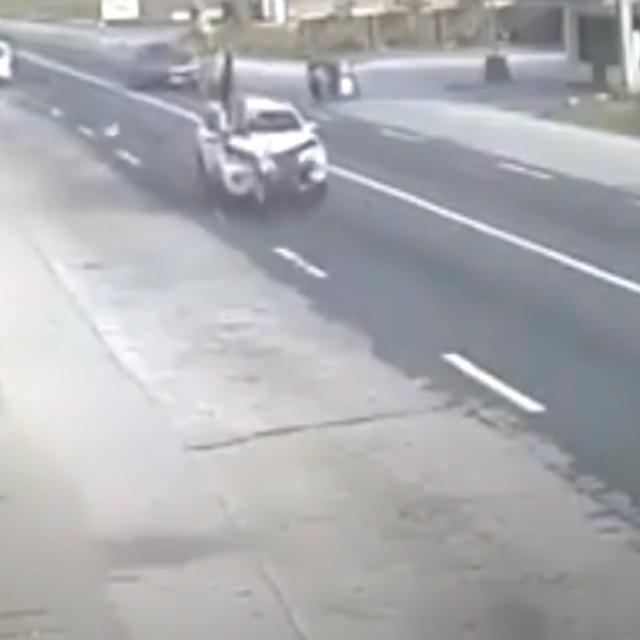accident: (191, 92, 333, 216)
